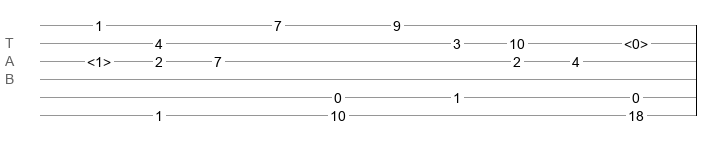0: (334, 90, 342, 100), (632, 90, 640, 100)
1: (95, 18, 103, 28), (155, 108, 163, 118), (453, 90, 461, 100)
10: (330, 108, 346, 118), (509, 36, 525, 46)
18: (628, 108, 644, 118)
2: (155, 54, 163, 64), (513, 54, 521, 64)
3: (453, 36, 461, 46)
4: (155, 36, 163, 46), (572, 54, 580, 64)
7: (214, 54, 222, 64), (274, 18, 282, 28)
9: (393, 18, 401, 28)
harmonic: (87, 54, 111, 64), (624, 36, 648, 46)
